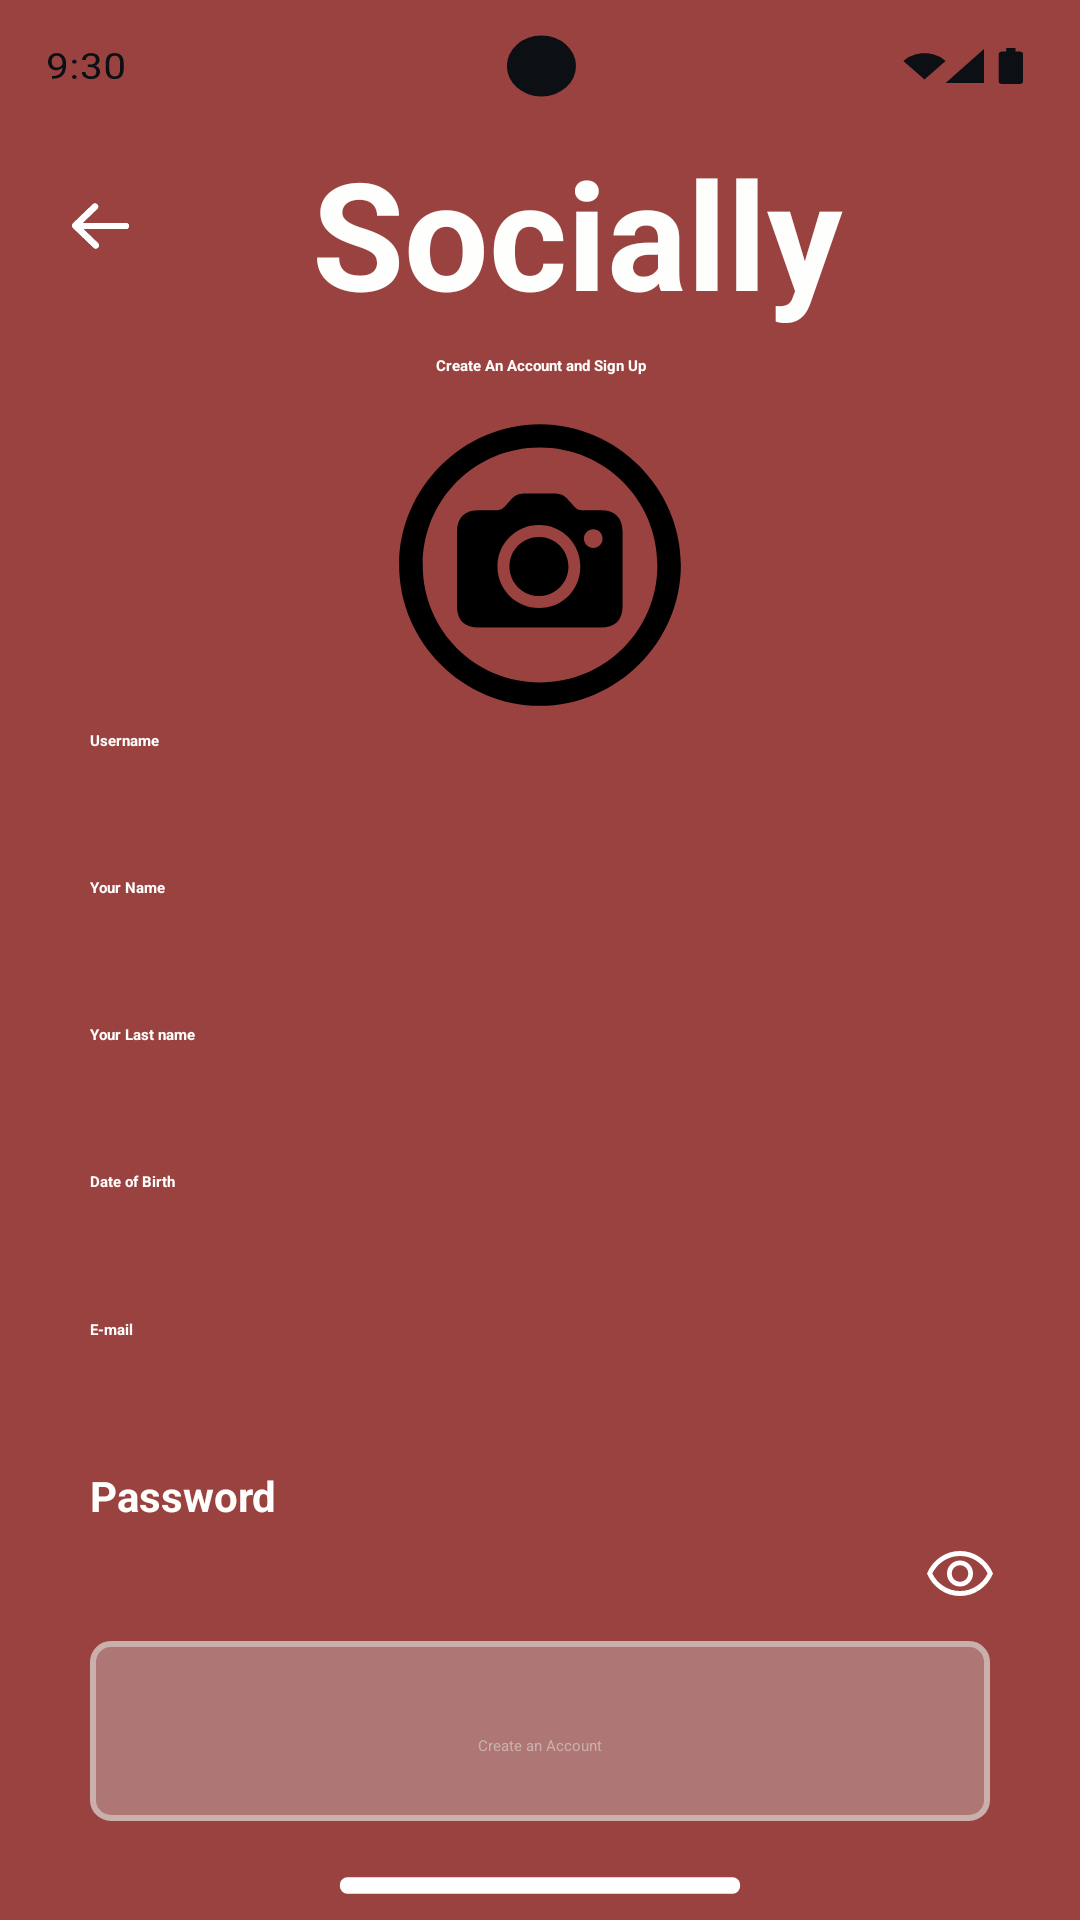

Screen size 1080×1920. Icon name, then its center in pixels as point (x, y):
back: point (100, 226)
camera: point (540, 565)
visibility: point (960, 1573)
